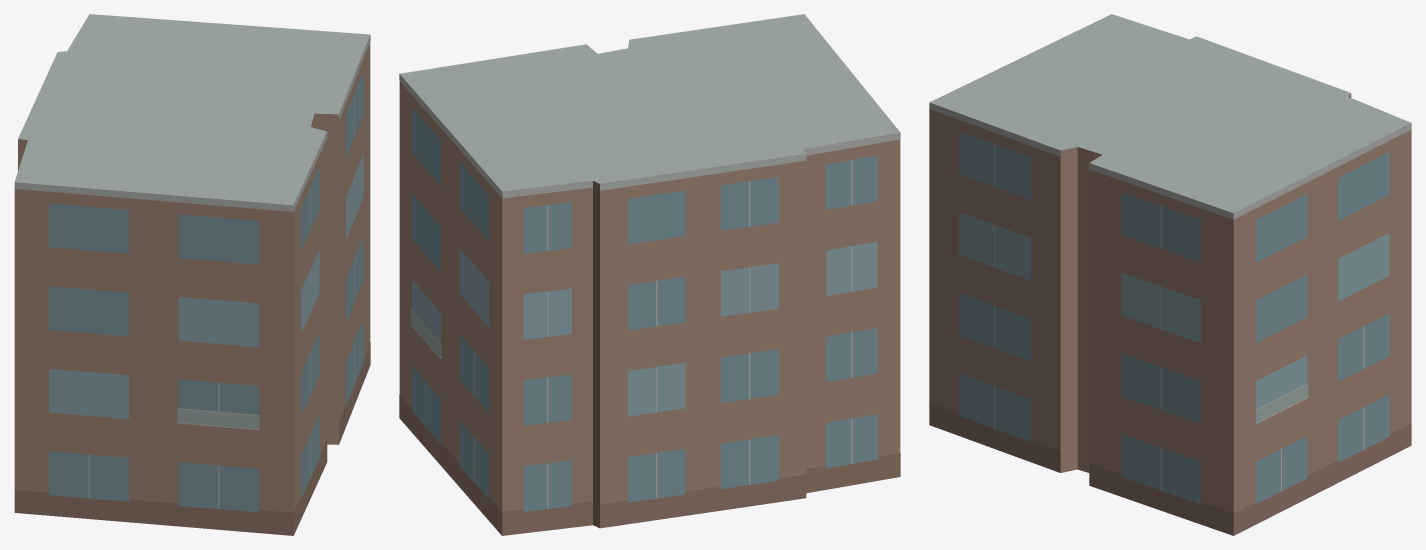
File: survey-upis-32611597.glb
3 renders of one model, left to right at view 1: azimuth 30°, elevation 25°; view 2: azimuth 150°, elevation 25°; view 3: azimuth 270°, elevation 25°, orthographic. The views are drawn at different scales.
Visible parts, largest first — view 1: survey-upis-32611597.tmp; view 2: survey-upis-32611597.tmp; view 3: survey-upis-32611597.tmp.
Boxes of the visible parts, box(x1,y1,x2,y2) form: survey-upis-32611597.tmp: box(14, 14, 370, 535); survey-upis-32611597.tmp: box(399, 14, 900, 535); survey-upis-32611597.tmp: box(929, 14, 1411, 535).
Size of the model in its own units: 16.17 by 12.2 by 16.54.
